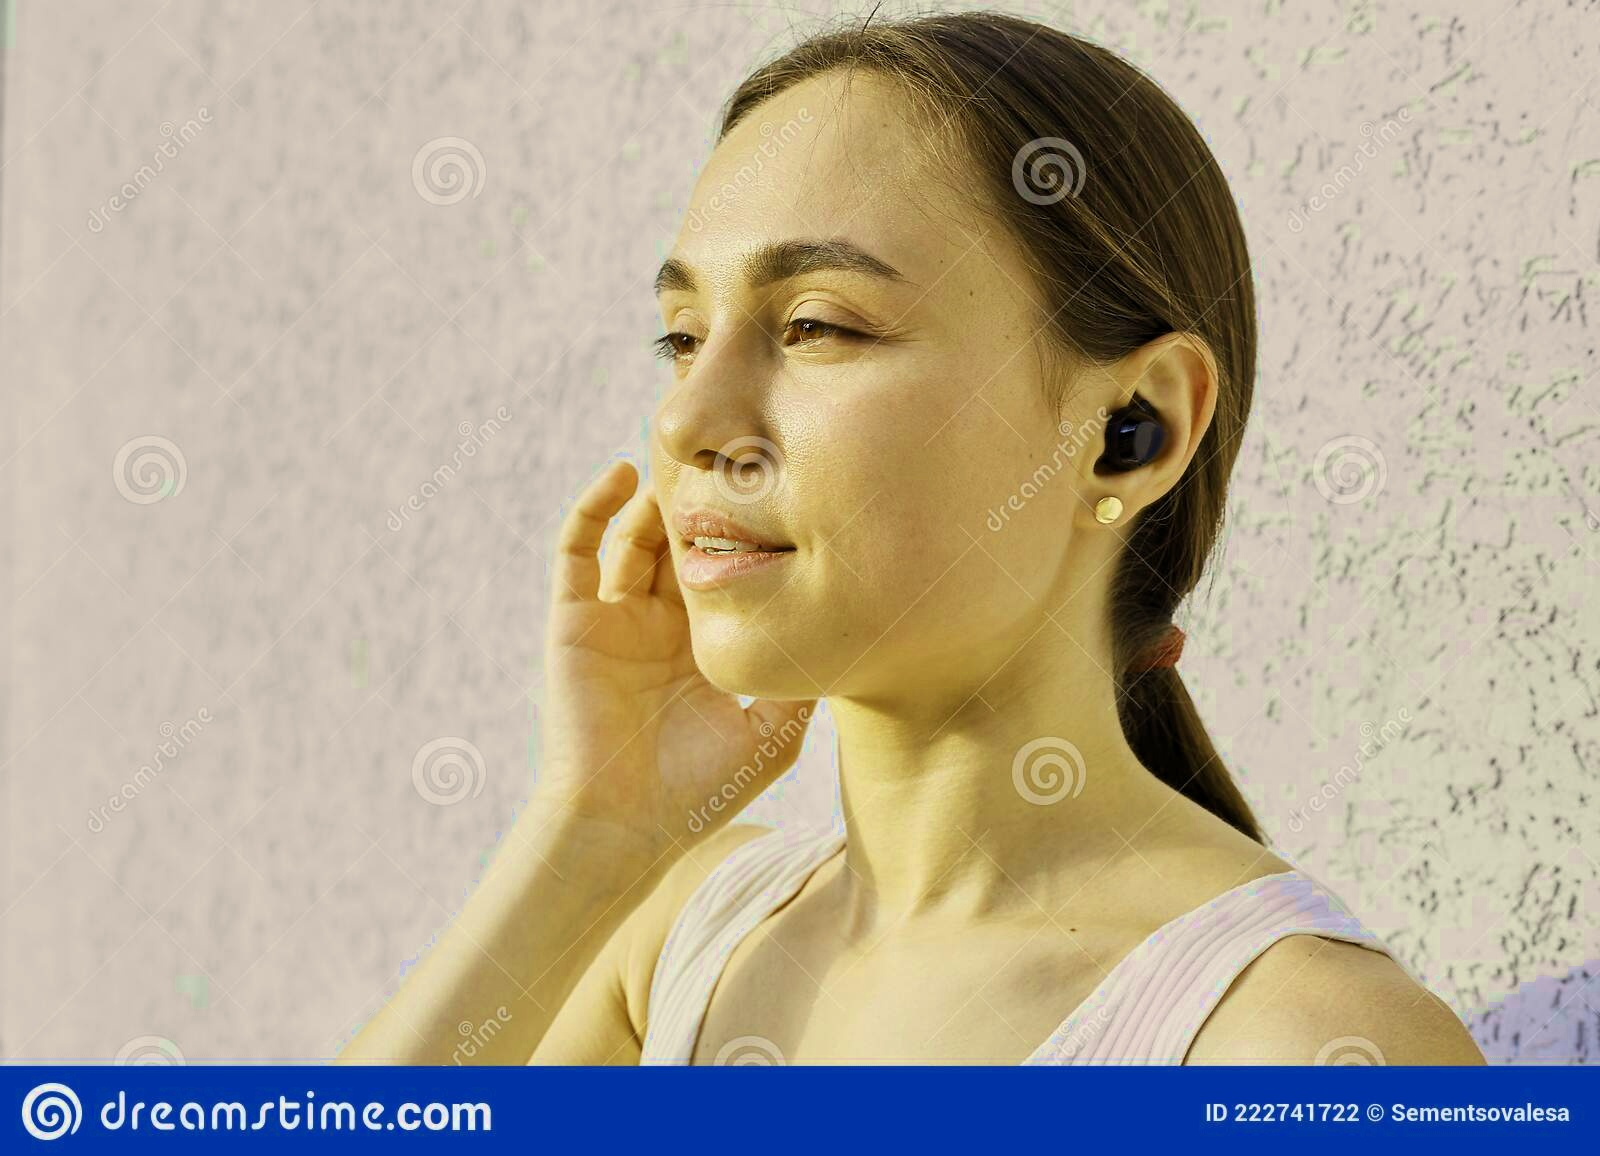earphone: (1076, 333, 1217, 529)
